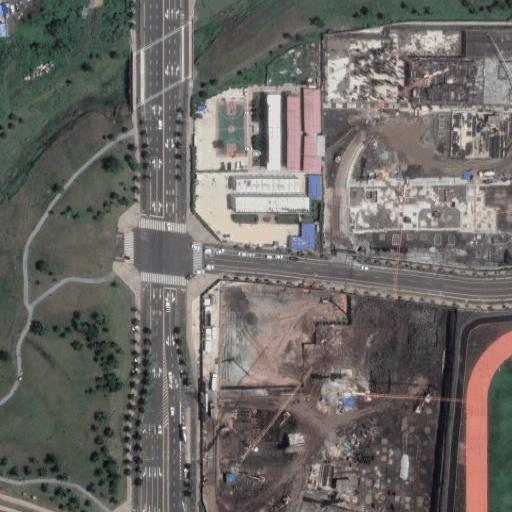building: (347, 177, 470, 230), (233, 197, 308, 213), (286, 97, 301, 170), (234, 179, 300, 192), (268, 94, 280, 165), (303, 89, 321, 132), (304, 136, 325, 172), (290, 223, 315, 251), (308, 175, 322, 200), (336, 480, 355, 492), (400, 455, 408, 478), (343, 397, 356, 407), (226, 472, 236, 484), (0, 2, 7, 14), (508, 17, 512, 25)
